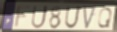8: (48, 5, 63, 30)
F: (13, 5, 33, 30)
Q: (96, 7, 113, 29)
U: (30, 5, 49, 30), (64, 5, 82, 30)
V: (82, 5, 98, 31)
